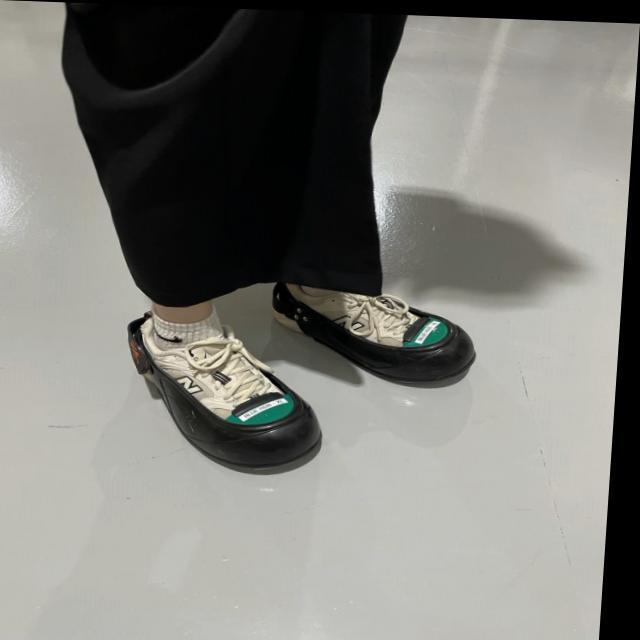shoes: (118, 310, 328, 484), (271, 276, 478, 400)
